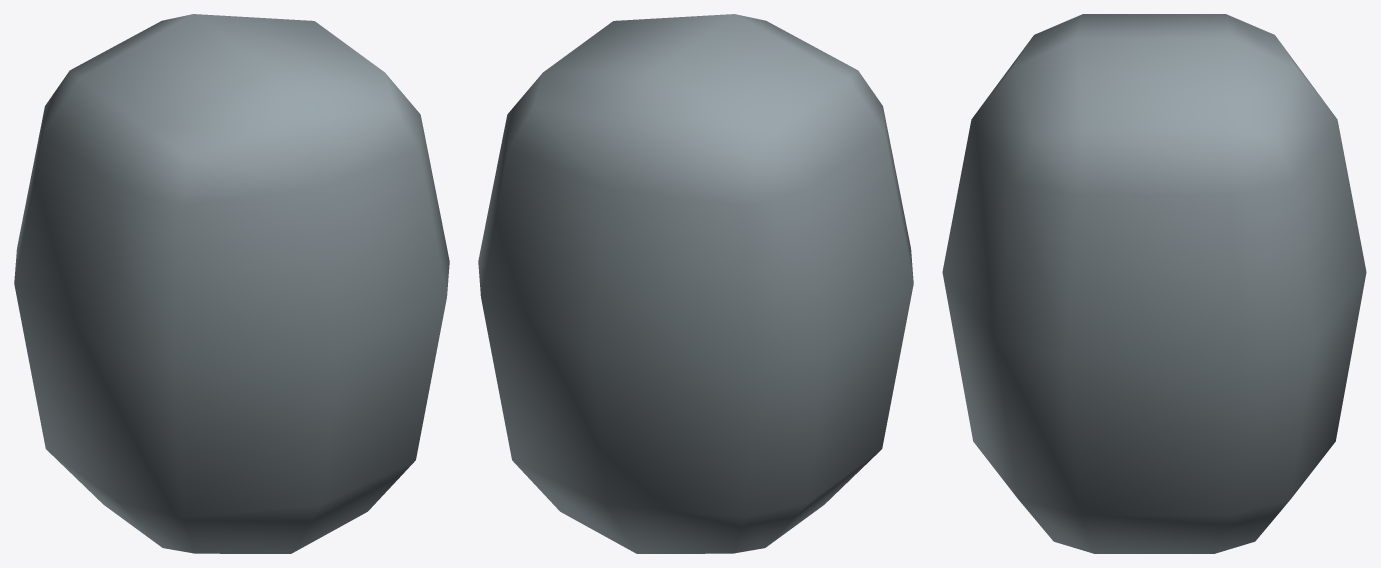
The model's file is Rock_6_B_Color1.gltf.
3 views of the same model, side by side, from view 1: azimuth 30°, elevation 25°; view 2: azimuth 150°, elevation 25°; view 3: azimuth 270°, elevation 25° (orthographic).
Visible parts, largest first — view 1: Rock_6_B_Color1; view 2: Rock_6_B_Color1; view 3: Rock_6_B_Color1.
Boxes of the visible parts, box(x1,y1,x2,y2) form: Rock_6_B_Color1: box(14, 14, 449, 553); Rock_6_B_Color1: box(478, 14, 913, 553); Rock_6_B_Color1: box(942, 14, 1366, 553).
Bounding box in the file's own units: 0.4758 × 0.6175 × 0.4932.
Materials: 1 (1 with a texture image).
